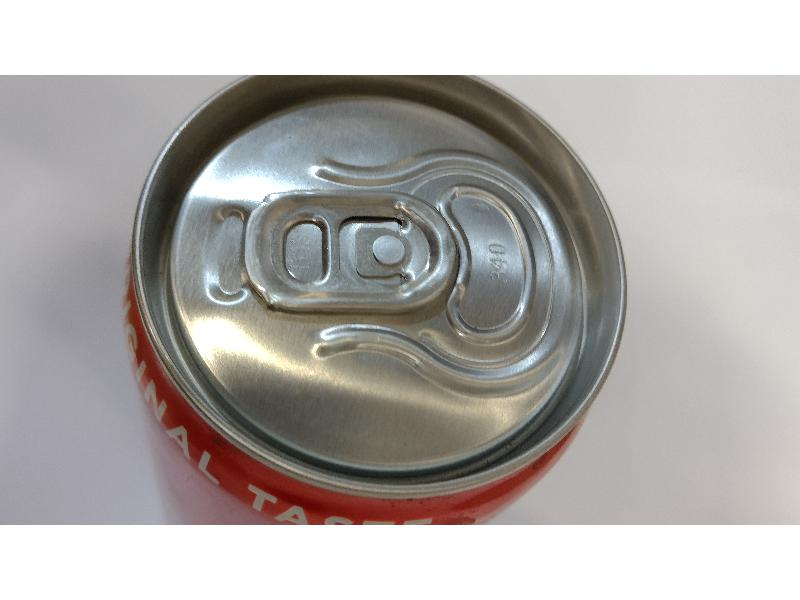can: (124, 75, 635, 528)
